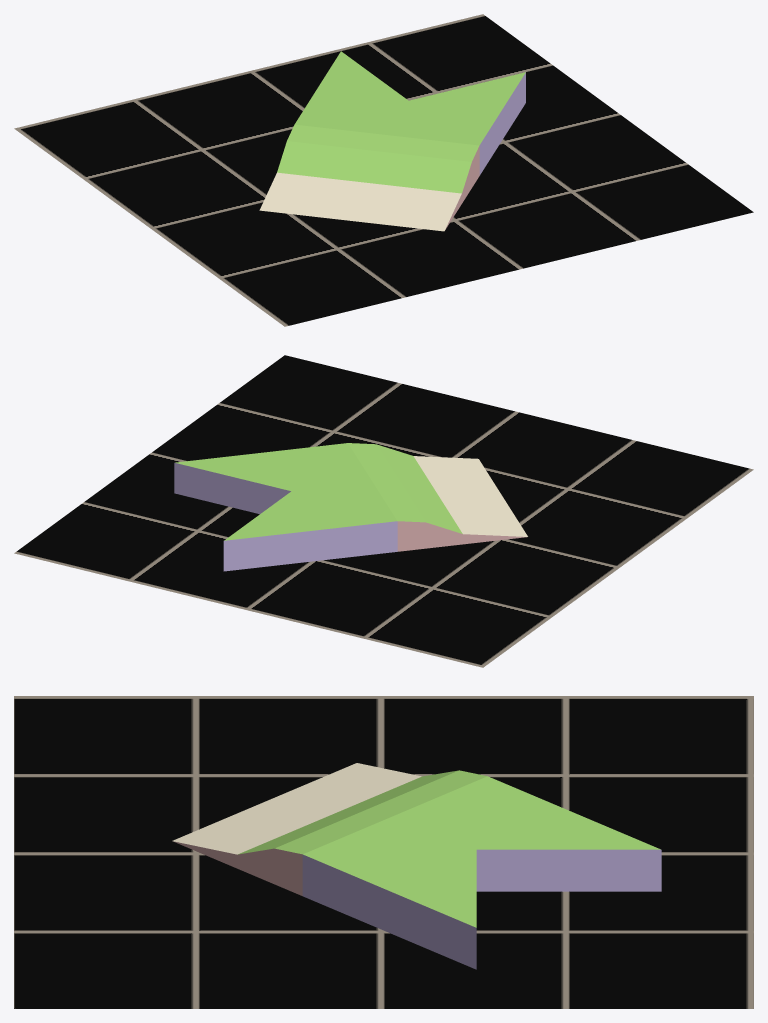
The model's file is Path_Terrain_45_Degrees_Straight_2x2.glb.
3 renders of one model, top to bottom at view 1: azimuth 30°, elevation 25°; view 2: azimuth 150°, elevation 25°; view 3: azimuth 270°, elevation 25°, orthographic. The views are drawn at different scales.
Parts seen in each view (by area): view 1: Floor, Path_Terrain_45_Degrees_Straight_2x2; view 2: Floor, Path_Terrain_45_Degrees_Straight_2x2; view 3: Floor, Path_Terrain_45_Degrees_Straight_2x2.
Boxes of the visible parts, bbox=[...] form: Floor: bbox=[14, 14, 753, 326]; Path_Terrain_45_Degrees_Straight_2x2: bbox=[259, 51, 525, 231]; Floor: bbox=[14, 355, 753, 667]; Path_Terrain_45_Degrees_Straight_2x2: bbox=[174, 443, 527, 571]; Floor: bbox=[14, 696, 753, 1008]; Path_Terrain_45_Degrees_Straight_2x2: bbox=[172, 763, 661, 969].
Bounding box in the file's own units: 400 × 25 × 400.
Materials: 6 (1 with a texture image).
